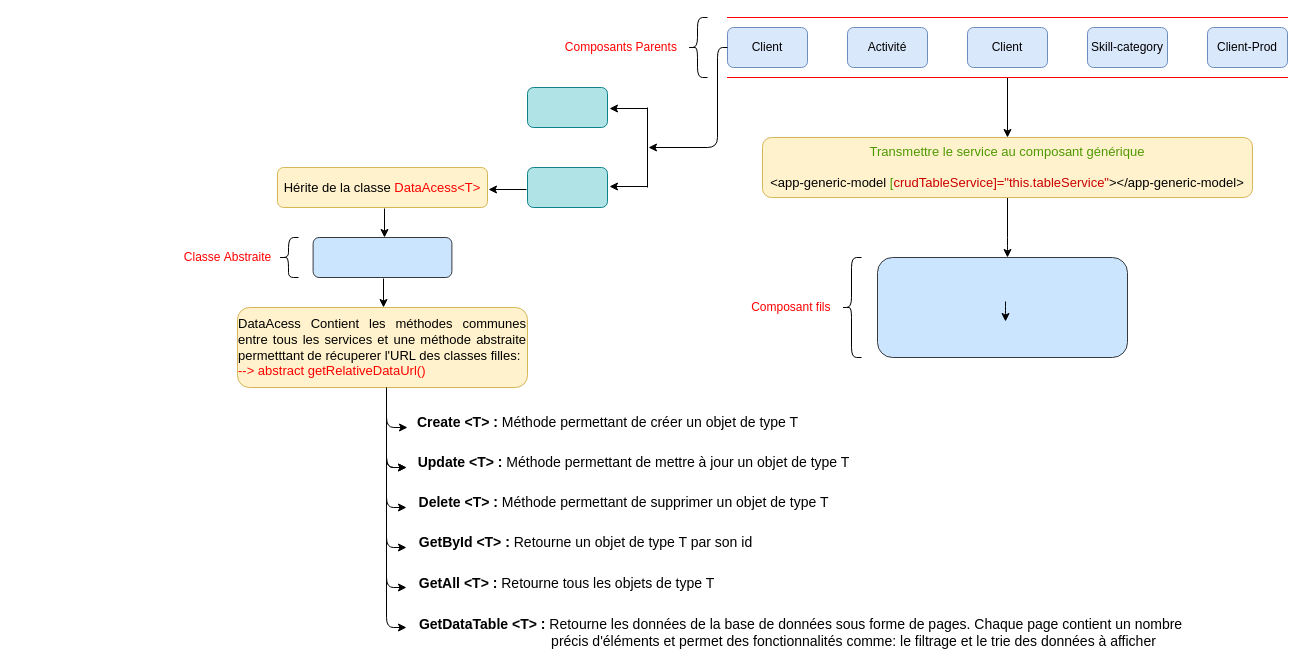
Image size: 1305x670. Some labels were removed from this diagram. The centre of each missing label's shape, as x and y in pixels:
"Composant générique propriété personnalisée @Input() crudTableService" belongs at point (1002, 307).
"DataAcess<Client>" belongs at point (382, 257).
"Entité" belongs at point (567, 107).
"Service" belongs at point (567, 187).
